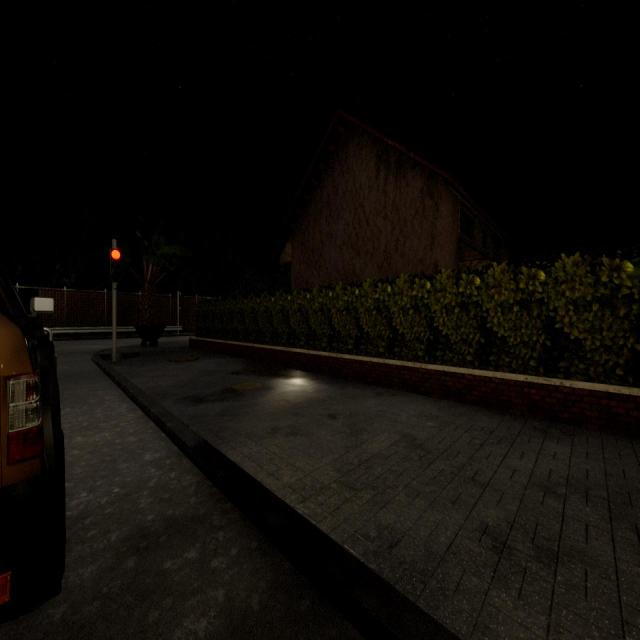Vehicle: (0, 274, 66, 618)
traffic_light: (110, 248, 121, 280), (179, 295, 183, 307)
